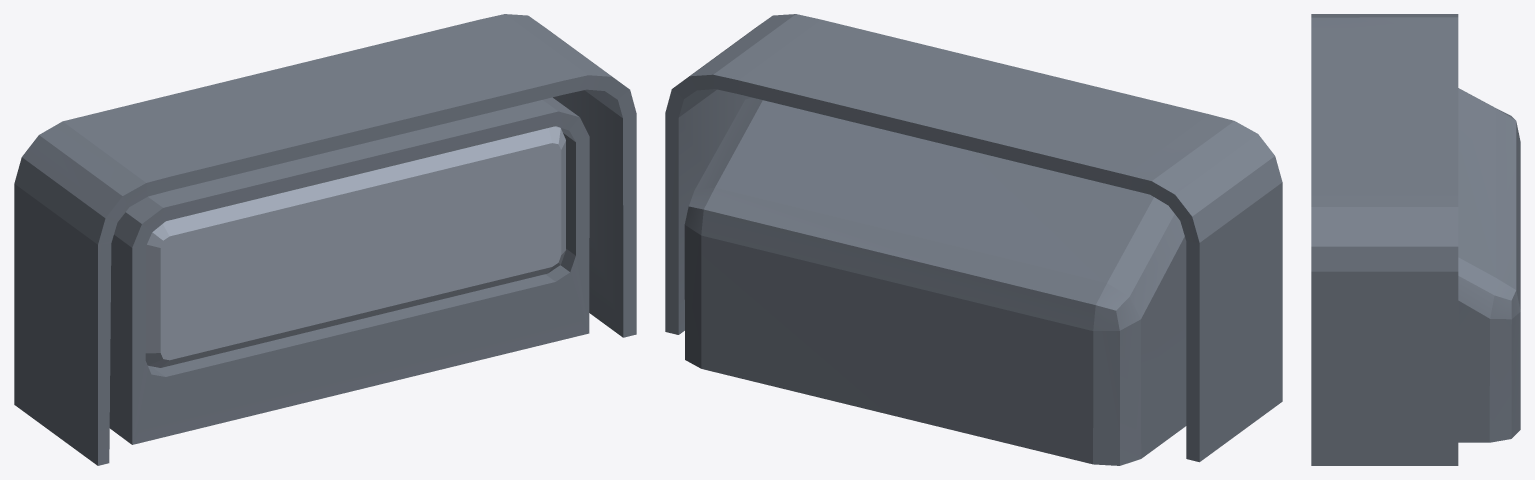
File: box_002_type87-arv.fbx
3 renders of one model, left to right at view 1: azimuth 30°, elevation 25°; view 2: azimuth 150°, elevation 25°; view 3: azimuth 270°, elevation 25°, orthographic. The views are drawn at different scales.
Parts seen in each view (by area): view 1: box.002.type87-arv; view 2: box.002.type87-arv; view 3: box.002.type87-arv.
Boxes of the visible parts, x1=… form: box.002.type87-arv: x1=14, y1=14, x2=636, y2=465; box.002.type87-arv: x1=665, y1=14, x2=1282, y2=465; box.002.type87-arv: x1=1311, y1=14, x2=1520, y2=465.
Size of the model in its own units: 1.53 by 0.7366 by 0.5858.
